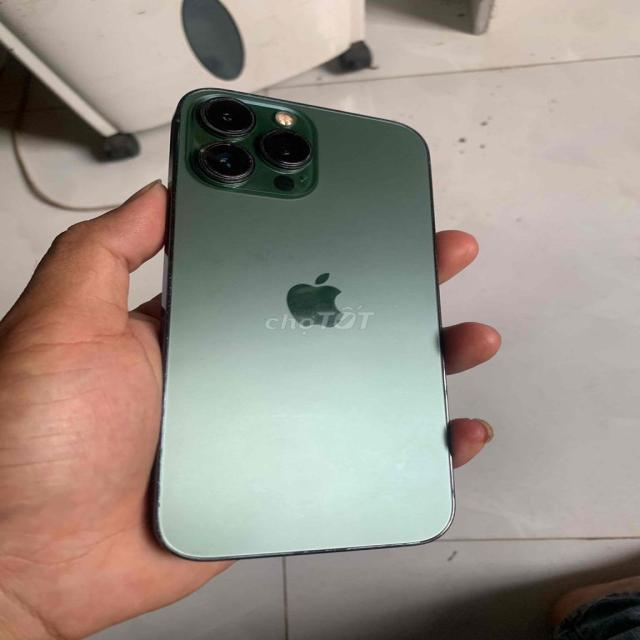gen_12_13: (148, 83, 471, 583)
